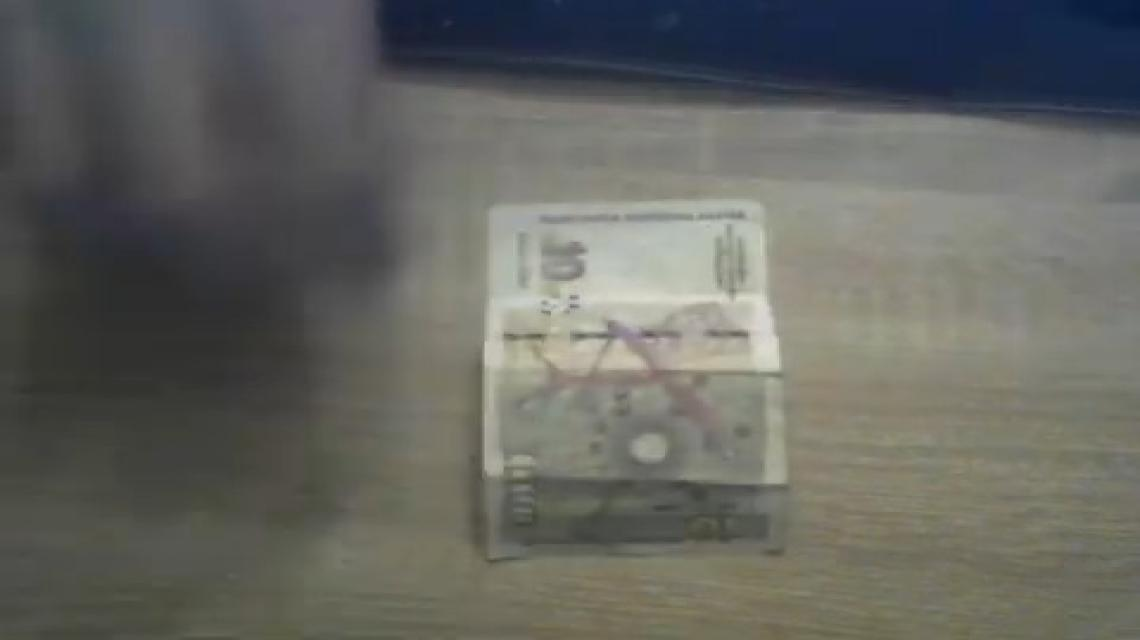10leva: (477, 199, 788, 564)
